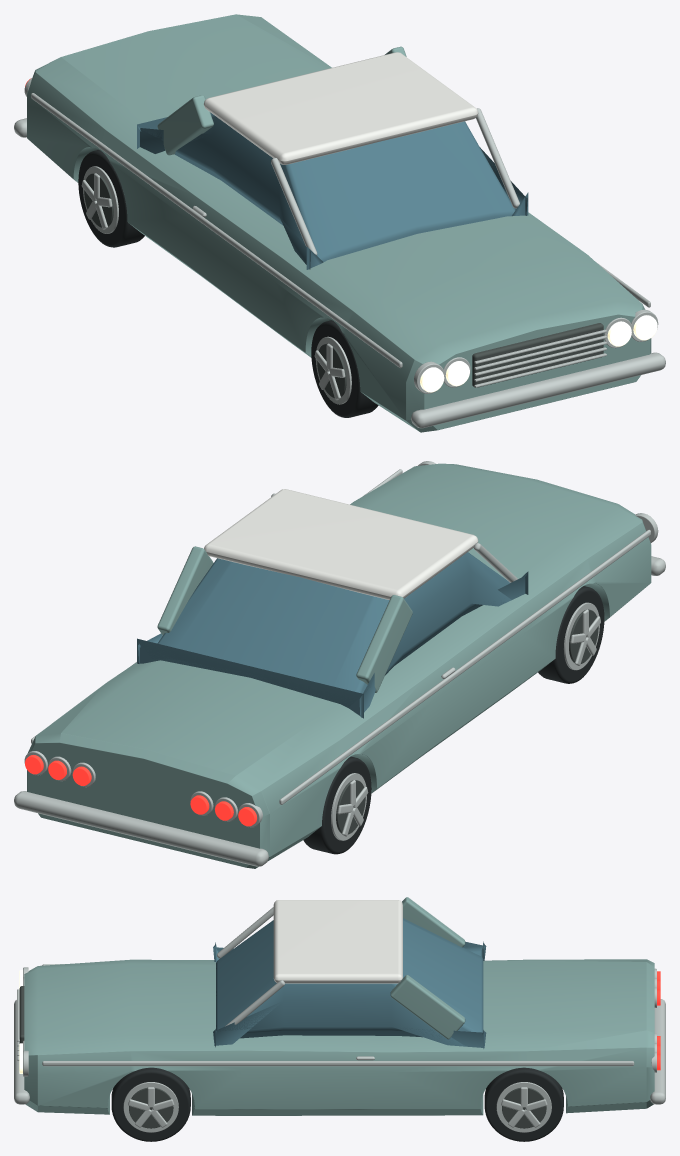
File: raggarbil.glb
3 views of the same model, one above another, from view 1: azimuth 30°, elevation 25°; view 2: azimuth 150°, elevation 25°; view 3: azimuth 270°, elevation 25° (orthographic). The views are drawn at different scales.
Visible parts, largest first — view 1: Long-waisted body, Wraparound glazing, Ivory hardtop, Chrome bumper, Grille recess, Stainless beltline, Däck, Däck.002, Sail panel, Windscreen pillar.001, Windscreen pillar, Wheel hub.002 (+3 smaller); view 2: Long-waisted body, Wraparound glazing, Ivory hardtop, Chrome bumper.001, Stainless beltline, Sail panel, Däck.002, Däck, Sail panel.001, Wheel hub, Wheel hub.002, Alloy wheel (+1 smaller); view 3: Long-waisted body, Wraparound glazing, Ivory hardtop, Stainless beltline.001, Däck.003, Däck.001, Sail panel.001, Sail panel, Chrome bumper.001, Wheel hub.003, Wheel hub.001, Alloy wheel.001 (+4 smaller).
Boxes of the visible parts, <box> form: Long-waisted body: <box>27,14,651,432</box>; Wraparound glazing: <box>137,112,528,269</box>; Ivory hardtop: <box>203,52,478,164</box>; Chrome bumper: <box>411,352,665,428</box>; Grille recess: <box>472,323,603,387</box>; Stainless beltline: <box>31,93,402,367</box>; Däck: <box>311,320,378,417</box>; Däck.002: <box>78,149,144,247</box>; Sail panel: <box>157,95,213,155</box>; Windscreen pillar.001: <box>476,108,519,208</box>; Windscreen pillar: <box>271,158,317,255</box>; Wheel hub.002: <box>84,173,113,227</box>; Long-waisted body: <box>27,463,651,868</box>; Wraparound glazing: <box>137,552,528,718</box>; Ivory hardtop: <box>204,489,478,599</box>; Chrome bumper.001: <box>14,791,268,866</box>; Stainless beltline: <box>279,529,650,804</box>; Sail panel: <box>356,595,412,692</box>; Däck.002: <box>303,756,371,854</box>; Däck: <box>538,586,604,683</box>; Sail panel.001: <box>157,546,213,635</box>; Wheel hub: <box>569,609,598,663</box>; Wheel hub.002: <box>336,780,365,834</box>; Alloy wheel: <box>564,602,599,670</box>; Long-waisted body: <box>24,959,654,1115</box>; Wraparound glazing: <box>213,918,486,1048</box>; Ivory hardtop: <box>273,900,402,983</box>; Stainless beltline.001: <box>42,1061,634,1066</box>; Däck.003: <box>484,1067,563,1141</box>; Däck.001: <box>111,1067,190,1141</box>; Sail panel.001: <box>390,975,465,1039</box>; Sail panel: <box>402,897,465,947</box>; Chrome bumper.001: <box>650,999,665,1104</box>; Wheel hub.003: <box>502,1087,546,1128</box>; Wheel hub.001: <box>129,1087,173,1128</box>; Alloy wheel.001: <box>123,1082,178,1132</box>.
Size of the model in its own units: 2.11 by 1.54 by 5.75.
